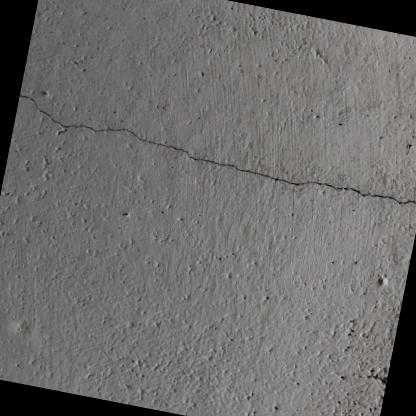crack: (18, 93, 416, 205)
